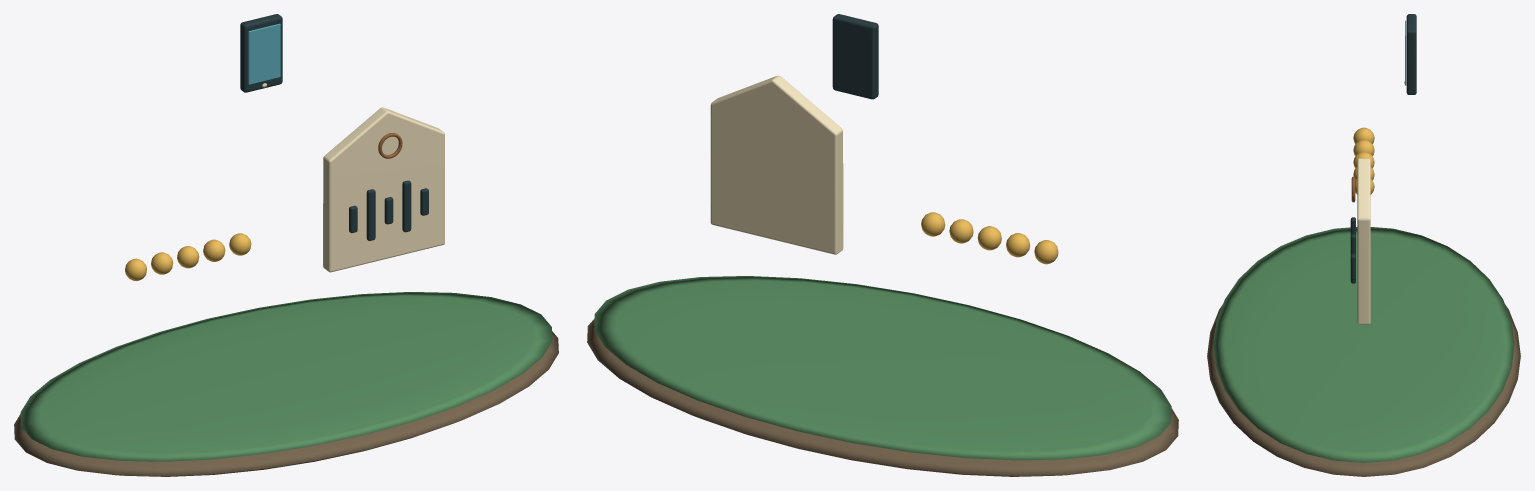
File: complete-third-coded-number.glb
3 views of the same model, side by side, from view 1: azimuth 30°, elevation 25°; view 2: azimuth 150°, elevation 25°; view 3: azimuth 270°, elevation 25° (orthographic). The views are drawn at different scales.
Parts seen in each view (by area): view 1: complete-third-coded-number_surface_01, complete-third-coded-number_surface_03, complete-third-coded-number_surface_00, complete-third-coded-number_surface_05, complete-third-coded-number_surface_02, complete-third-coded-number_surface_06; view 2: complete-third-coded-number_surface_01, complete-third-coded-number_surface_03, complete-third-coded-number_surface_00, complete-third-coded-number_surface_05, complete-third-coded-number_surface_02; view 3: complete-third-coded-number_surface_01, complete-third-coded-number_surface_00, complete-third-coded-number_surface_03, complete-third-coded-number_surface_05, complete-third-coded-number_surface_02.
Boxes of the visible parts, left/top/right/bottom form: complete-third-coded-number_surface_01: left=20, top=292, right=552, bottom=461; complete-third-coded-number_surface_03: left=262, top=83, right=444, bottom=272; complete-third-coded-number_surface_00: left=14, top=331, right=558, bottom=476; complete-third-coded-number_surface_05: left=240, top=14, right=428, bottom=240; complete-third-coded-number_surface_02: left=125, top=233, right=251, bottom=281; complete-third-coded-number_surface_06: left=248, top=23, right=280, bottom=84; complete-third-coded-number_surface_01: left=594, top=276, right=1171, bottom=460; complete-third-coded-number_surface_03: left=710, top=75, right=843, bottom=254; complete-third-coded-number_surface_00: left=587, top=319, right=1178, bottom=476; complete-third-coded-number_surface_05: left=832, top=14, right=878, bottom=99; complete-third-coded-number_surface_02: left=921, top=212, right=1058, bottom=264; complete-third-coded-number_surface_01: left=1213, top=227, right=1514, bottom=462; complete-third-coded-number_surface_00: left=1207, top=304, right=1520, bottom=476; complete-third-coded-number_surface_03: left=1357, top=81, right=1406, bottom=324; complete-third-coded-number_surface_05: left=1350, top=14, right=1416, bottom=283; complete-third-coded-number_surface_02: left=1353, top=127, right=1374, bottom=194.
Bounding box in the file's own units: 4.56 × 3.07 × 2.5.
